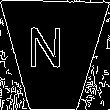N_S: (36, 30, 73, 81)
